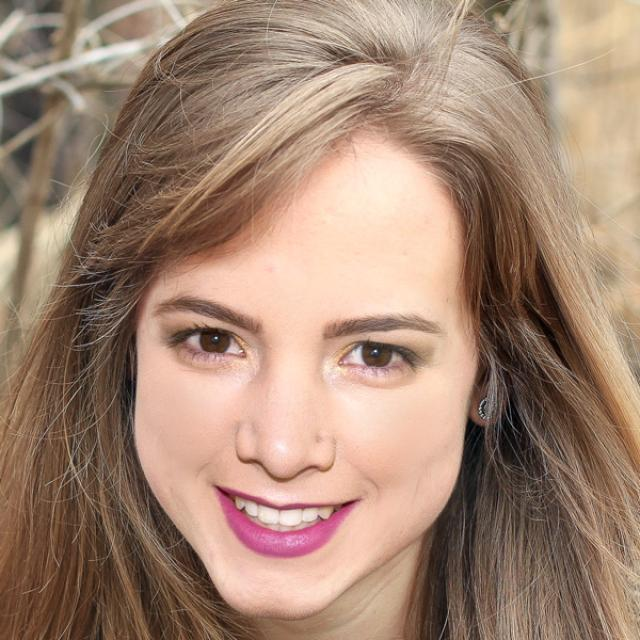face: (91, 20, 541, 618)
